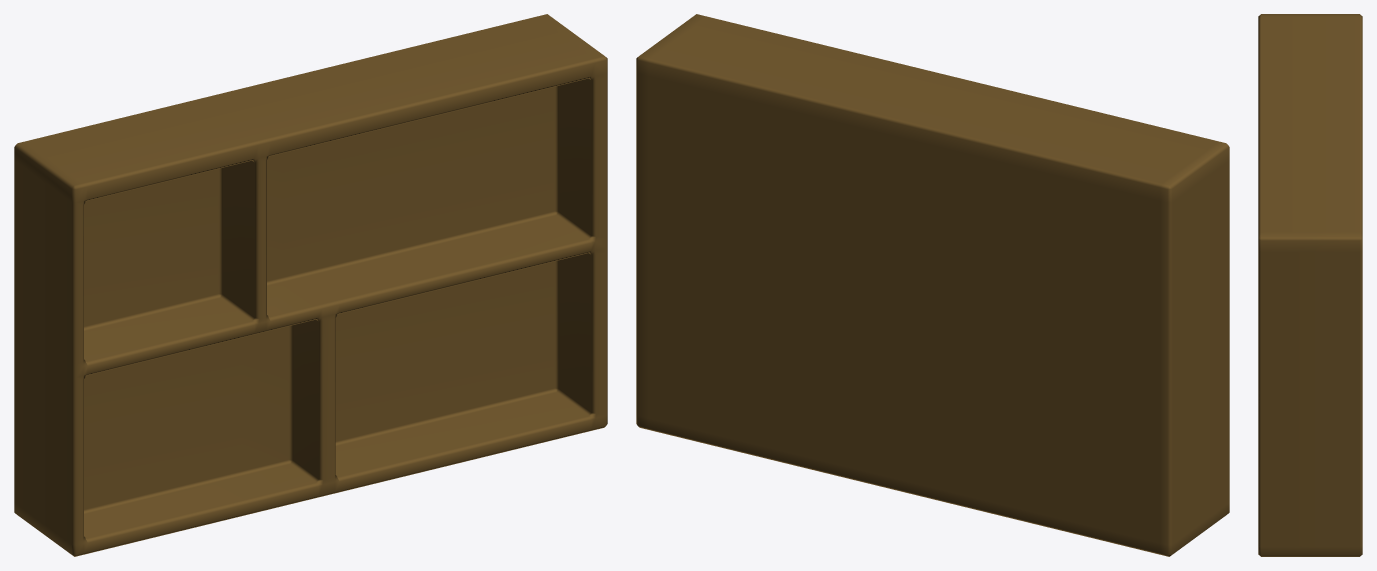
The model's file is LIBRERO COLGANTE.fbx.
3 views of the same model, side by side, from view 1: azimuth 30°, elevation 25°; view 2: azimuth 150°, elevation 25°; view 3: azimuth 270°, elevation 25° (orthographic). The views are drawn at different scales.
Parts seen in each view (by area): view 1: pCube1; view 2: pCube1; view 3: pCube1.
Boxes of the visible parts, bbox=[...] form: pCube1: bbox=[14, 14, 607, 556]; pCube1: bbox=[636, 14, 1229, 556]; pCube1: bbox=[1258, 14, 1362, 556].
Size of the model in its own units: 74.01 by 49.05 by 14.52.
